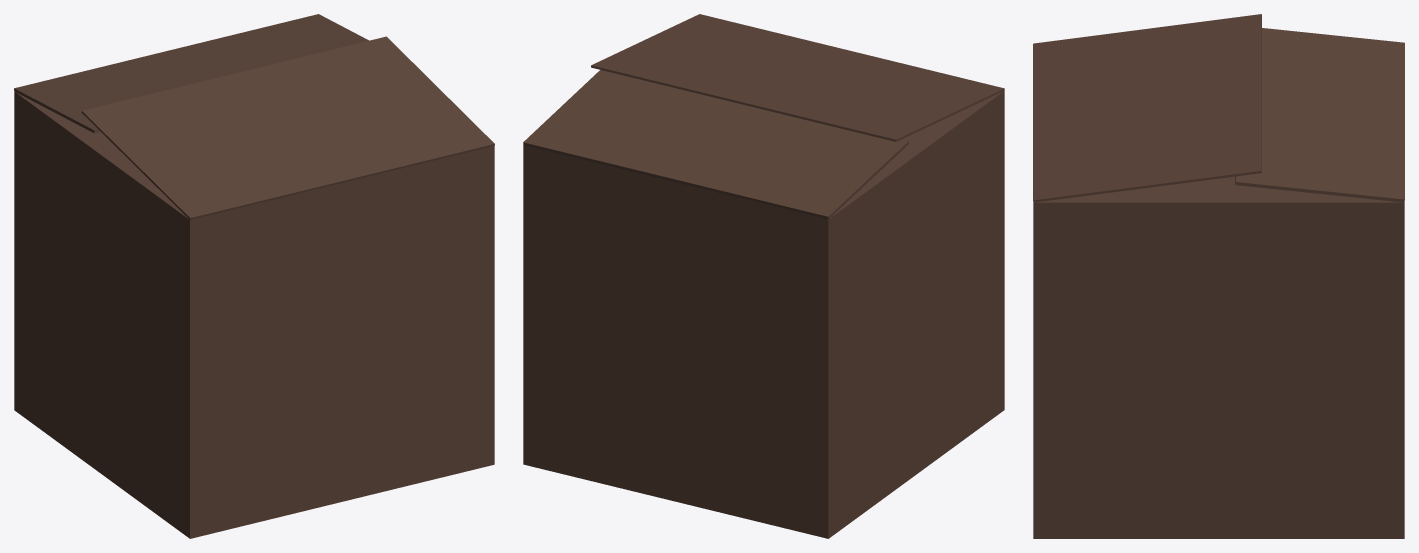
Rendered from Boxclosed_01.fbx.
3 renders of one model, left to right at view 1: azimuth 30°, elevation 25°; view 2: azimuth 150°, elevation 25°; view 3: azimuth 270°, elevation 25°, orthographic. The views are drawn at different scales.
Parts seen in each view (by area): view 1: pasted__pCube1; view 2: pasted__pCube1; view 3: pasted__pCube1.
Part boxes in pixels (x1,y1,x2,y2): pasted__pCube1: (14, 14, 494, 538); pasted__pCube1: (523, 14, 1004, 538); pasted__pCube1: (1033, 14, 1404, 538).
Bounding box in the file's own units: 100 × 109 × 100.
